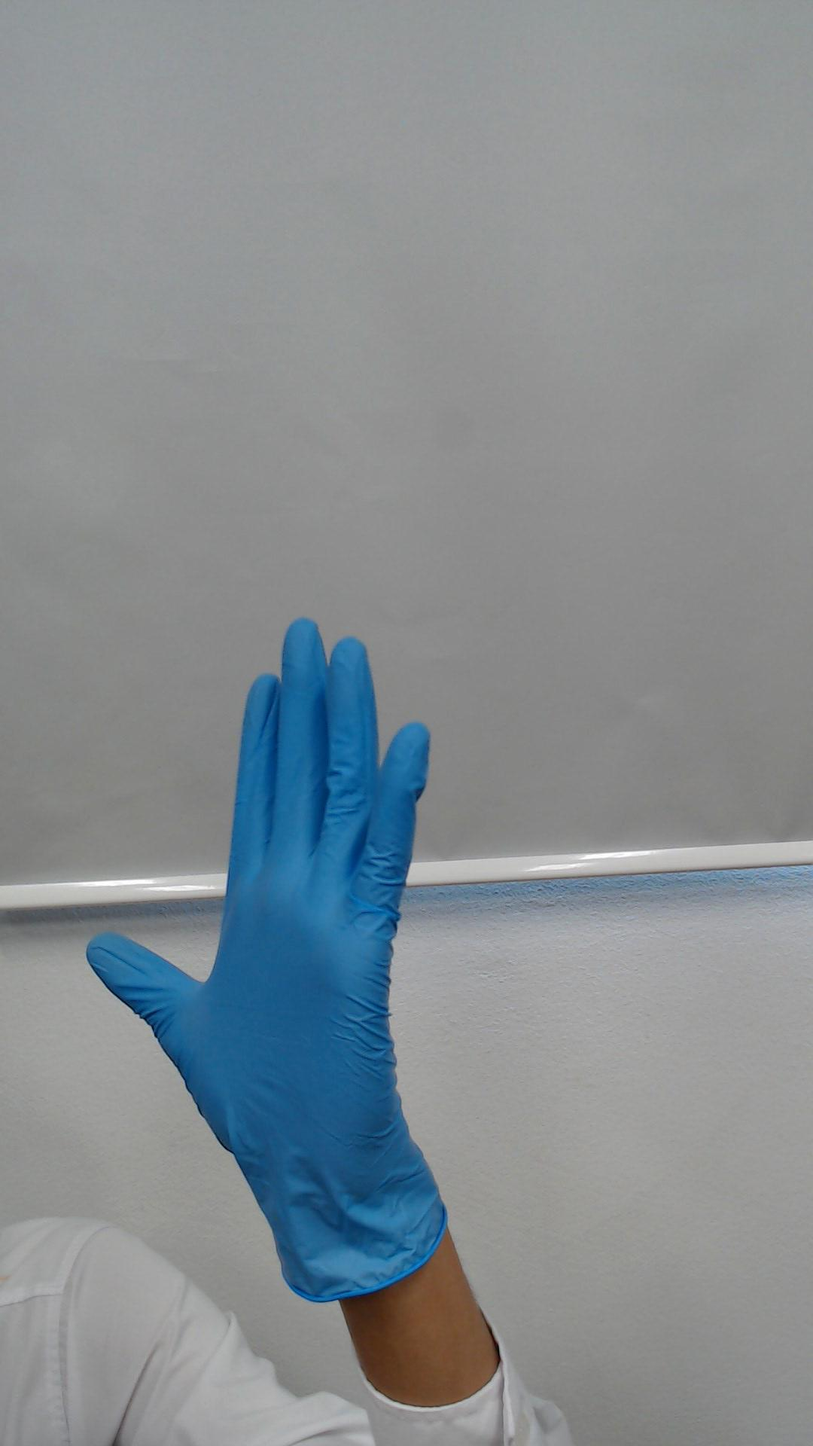gloves: (61, 590, 466, 1152)
